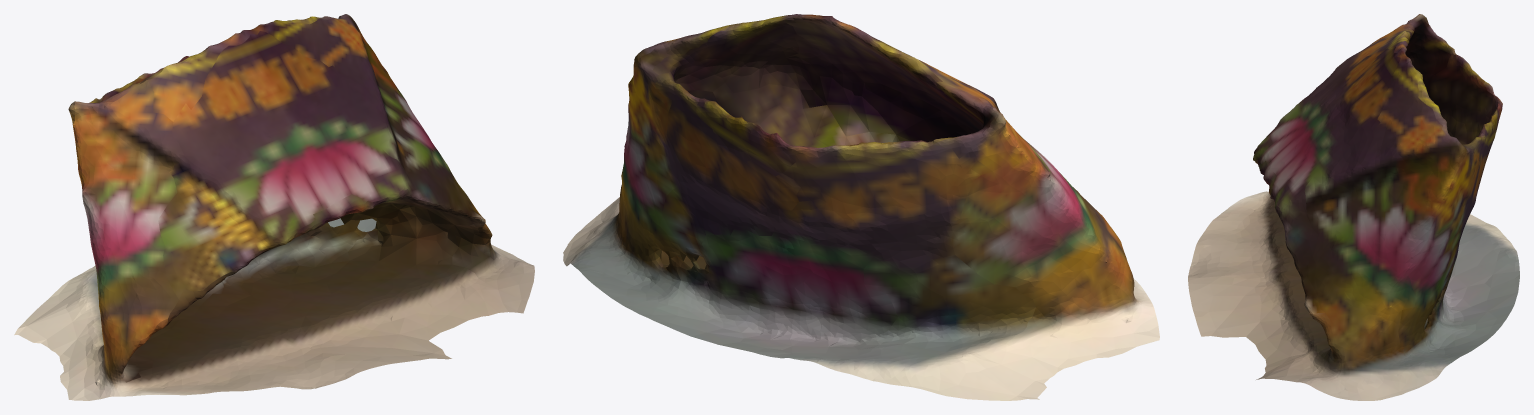
Rendered from Brown_bottom.obj.
3 views of the same model, side by side, from view 1: azimuth 30°, elevation 25°; view 2: azimuth 150°, elevation 25°; view 3: azimuth 270°, elevation 25° (orthographic). The views are drawn at different scales.
Visible parts, largest first — view 1: mesh; view 2: mesh; view 3: mesh.
Part boxes in pixels (bbox=[...]): mesh: bbox=[14, 14, 534, 400]; mesh: bbox=[563, 14, 1159, 400]; mesh: bbox=[1188, 14, 1519, 400].
Bounding box in the file's own units: 0.1056 × 0.0571 × 0.0698.
1 material, 1 textured.
